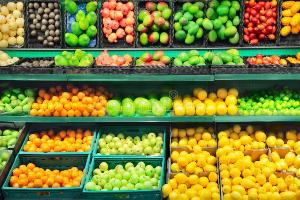apple: (88, 158, 164, 194), (98, 125, 167, 154), (109, 89, 172, 115)
apricot: (30, 82, 112, 118), (11, 152, 87, 190), (23, 128, 97, 152)
lemon: (218, 130, 300, 200), (167, 173, 219, 200), (169, 149, 218, 173), (170, 127, 220, 147)
lime: (238, 83, 300, 115)
mango: (172, 49, 244, 73), (138, 2, 172, 48), (174, 0, 206, 48), (207, 1, 241, 44), (134, 54, 174, 70)
orange: (172, 80, 240, 116)
pear: (0, 124, 22, 170), (0, 88, 34, 116)
pomegranate: (100, 0, 138, 48), (94, 50, 134, 72)
